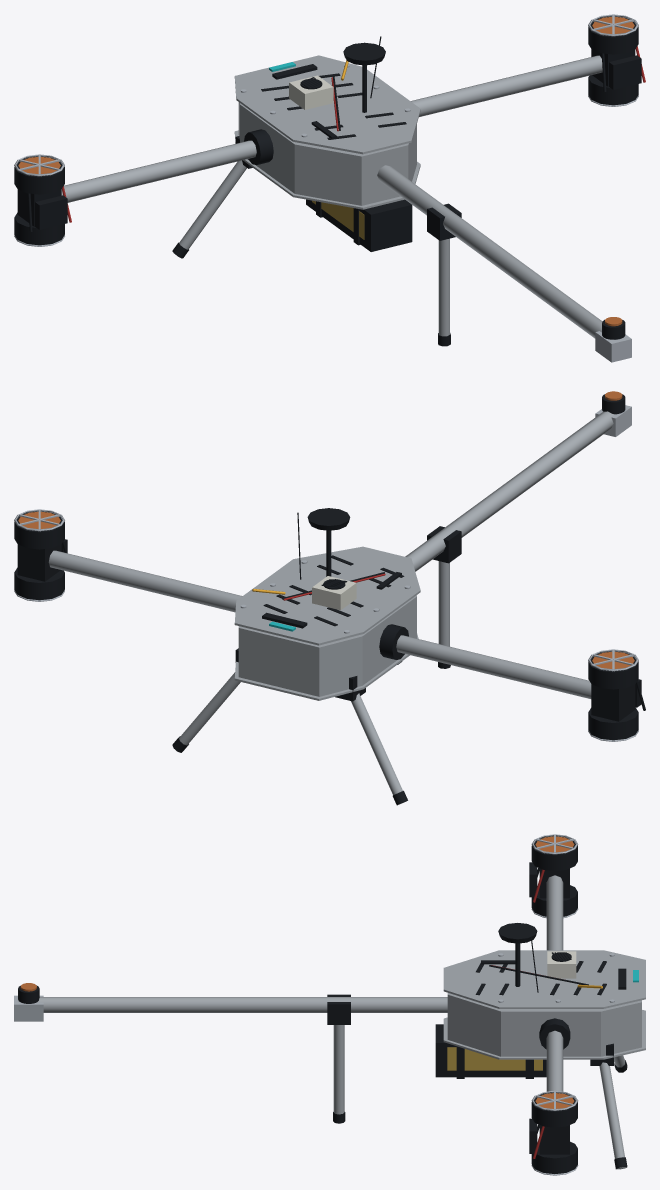
File: voliro_t_bare.glb
The picture shows the model from 3 angles, top to bottom: view 1: azimuth 30°, elevation 25°; view 2: azimuth 150°, elevation 25°; view 3: azimuth 270°, elevation 25°; orthographic projection. The views are drawn at different scales.
Parts seen in each view (by area): view 1: voliro-t-photo-airframe, voliro-left-coaxial-pod, voliro-right-coaxial-pod, voliro-t-battery-pack, voliro-t-battery; view 2: voliro-t-photo-airframe, voliro-left-coaxial-pod, voliro-right-coaxial-pod; view 3: voliro-t-photo-airframe, voliro-right-coaxial-pod, voliro-left-coaxial-pod, voliro-t-battery, voliro-t-battery-pack.
Boxes of the visible parts, box(x1,y1,x2,y2) form: voliro-t-photo-airframe: box(61, 36, 631, 362); voliro-left-coaxial-pod: box(14, 154, 71, 246); voliro-right-coaxial-pod: box(588, 14, 645, 106); voliro-t-battery-pack: box(306, 199, 412, 251); voliro-t-battery: box(312, 200, 364, 245); voliro-t-photo-airframe: box(48, 391, 631, 805); voliro-left-coaxial-pod: box(588, 649, 645, 741); voliro-right-coaxial-pod: box(14, 509, 67, 601); voliro-t-photo-airframe: box(14, 875, 645, 1169); voliro-right-coaxial-pod: box(529, 1090, 578, 1175); voliro-left-coaxial-pod: box(529, 834, 578, 918); voliro-t-battery: box(447, 1046, 542, 1078); voliro-t-battery-pack: box(435, 1024, 546, 1077).
Size of the model in its own units: 0.9696 by 0.3301 by 0.937.
